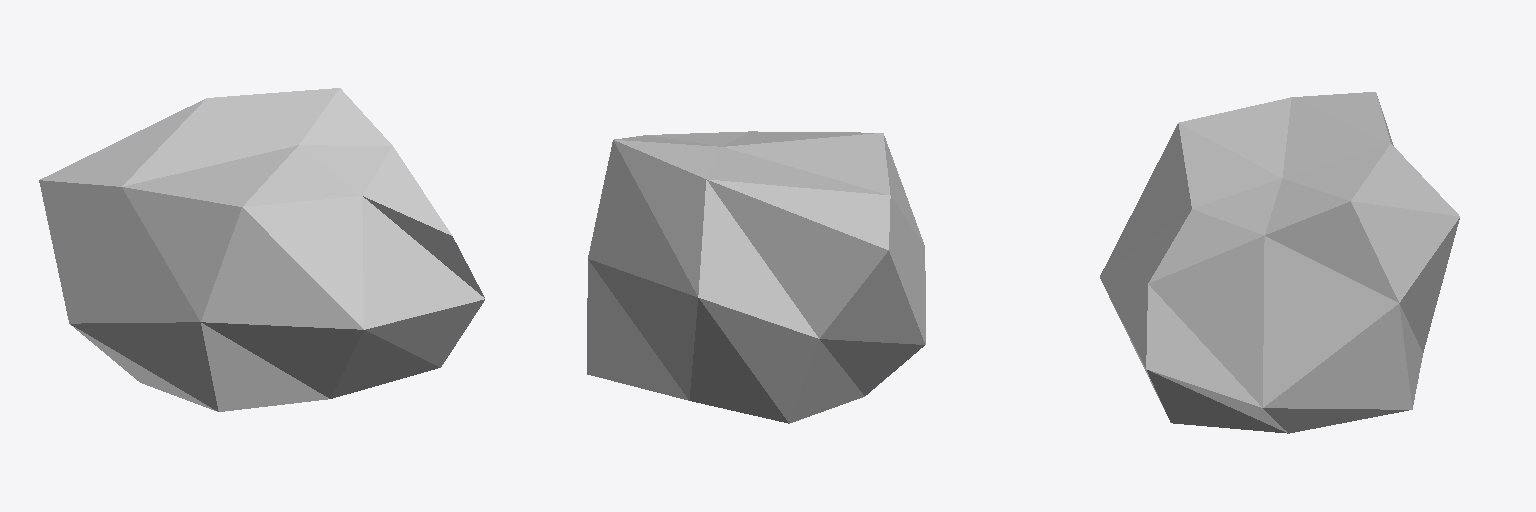
File: Roca3.obj
3 views of the same model, side by side, from view 1: azimuth 30°, elevation 25°; view 2: azimuth 150°, elevation 25°; view 3: azimuth 270°, elevation 25° (orthographic).
Parts seen in each view (by area): view 1: Roca3; view 2: Roca3; view 3: Roca3.
Boxes of the visible parts, <box> form: Roca3: <box>39,88,484,411</box>; Roca3: <box>587,131,925,423</box>; Roca3: <box>1100,92,1459,433</box>.
Size of the model in its own units: 2.36 by 1.52 by 2.15.